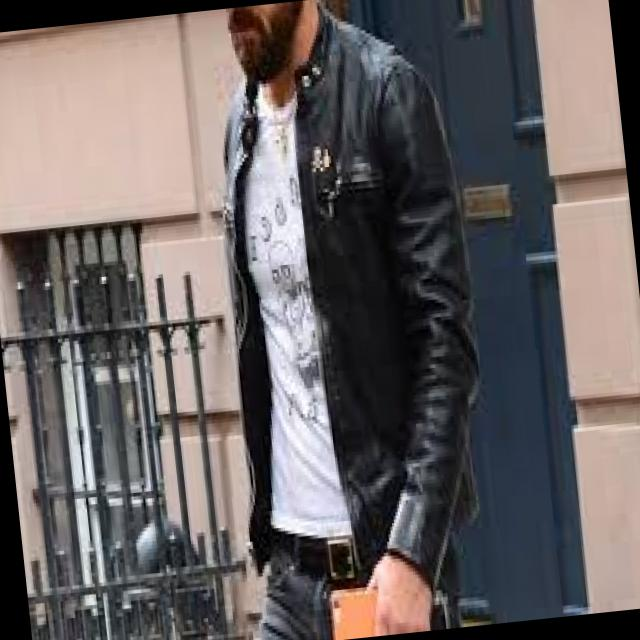Jacket: (147, 0, 526, 570)
